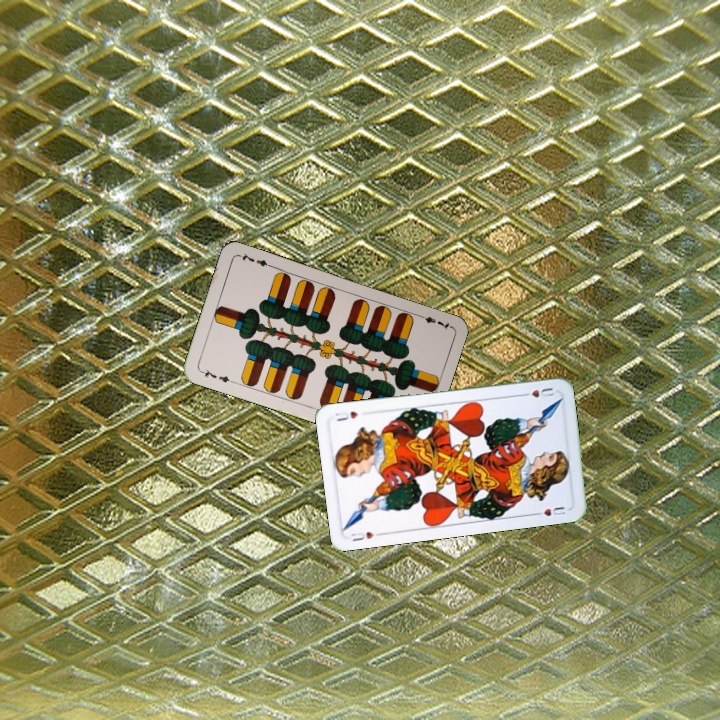E7: (414, 311, 453, 332), (197, 365, 236, 385)
HU: (517, 384, 557, 400), (348, 527, 376, 544)
